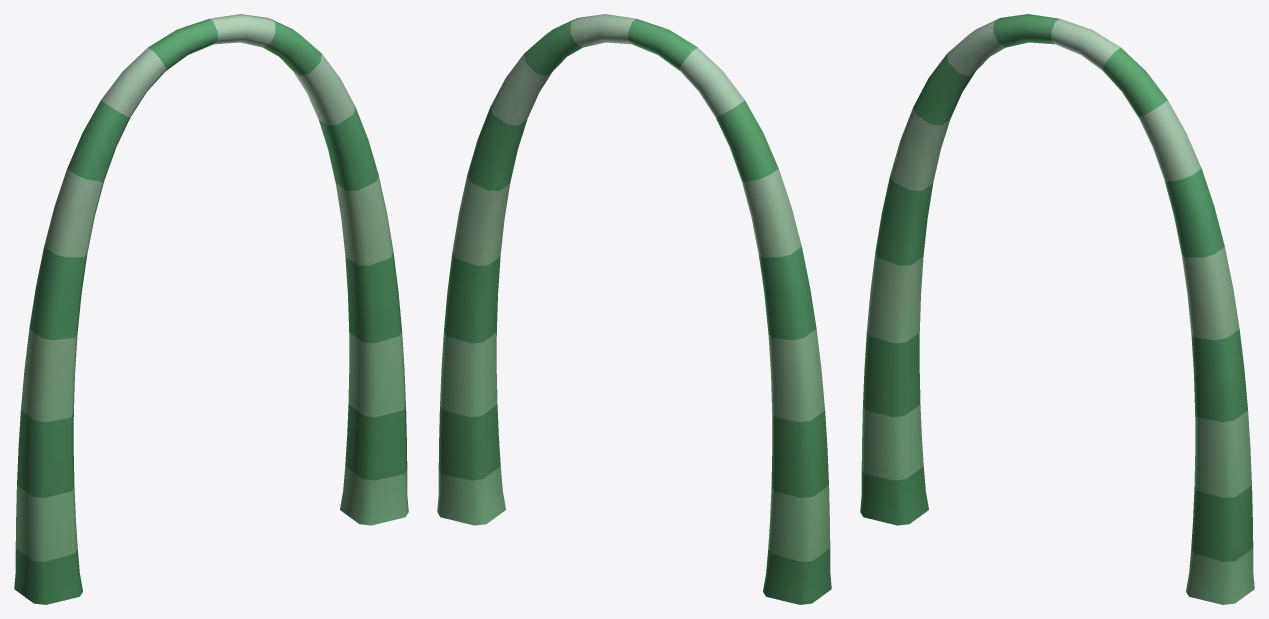
File: Arc_01.glb
The picture shows the model from 3 angles, left to right: view 1: azimuth 30°, elevation 25°; view 2: azimuth 150°, elevation 25°; view 3: azimuth 330°, elevation 25°; orthographic projection.
Parts seen in each view (by area): view 1: Arc_01; view 2: Arc_01; view 3: Arc_01.
Boxes of the visible parts, left/top/right/bottom form: Arc_01: left=14, top=14, right=408, bottom=604; Arc_01: left=437, top=14, right=831, bottom=604; Arc_01: left=860, top=14, right=1254, bottom=604.
Size of the model in its own units: 7.32 by 9.9 by 0.9638.
1 material, 1 textured.
